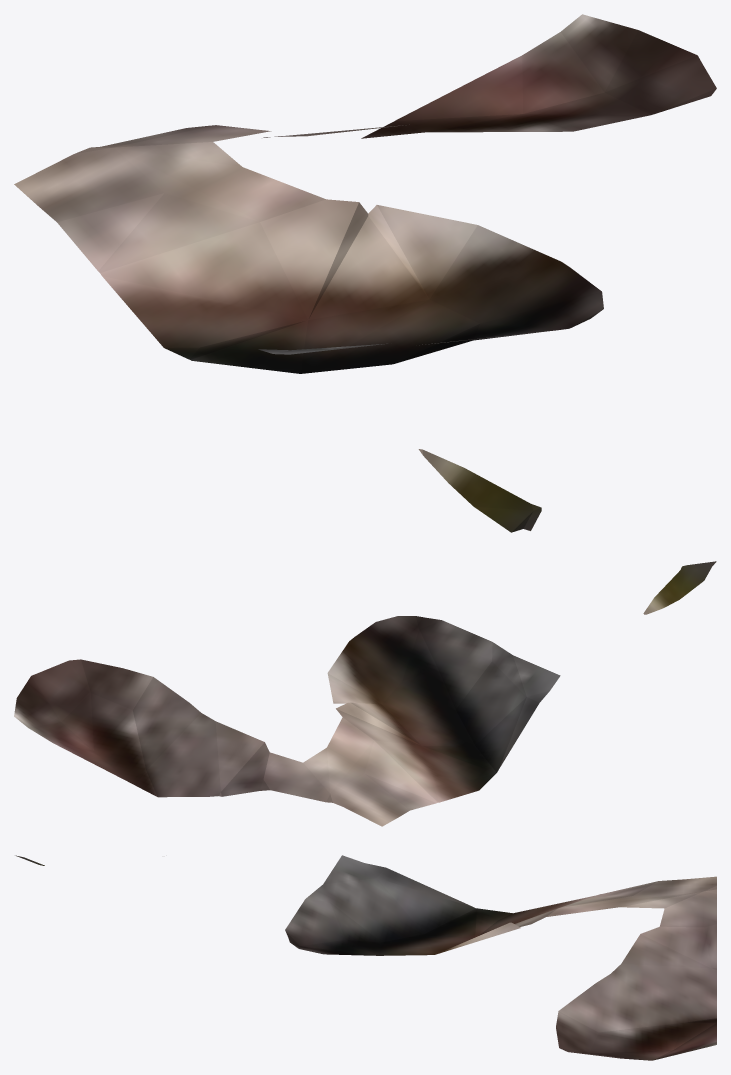
3 renders of one model, top to bottom at view 1: azimuth 30°, elevation 25°; view 2: azimuth 150°, elevation 25°; view 3: azimuth 270°, elevation 25°, orthographic. The views are drawn at different scales.
Size of the model in its own units: 0.2706 by 0.036 by 0.3954.
1 material, 1 textured.
